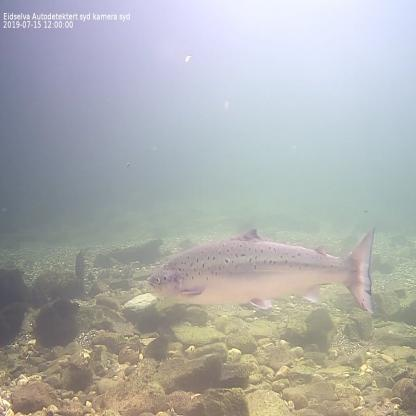salmon: (144, 222, 380, 317)
